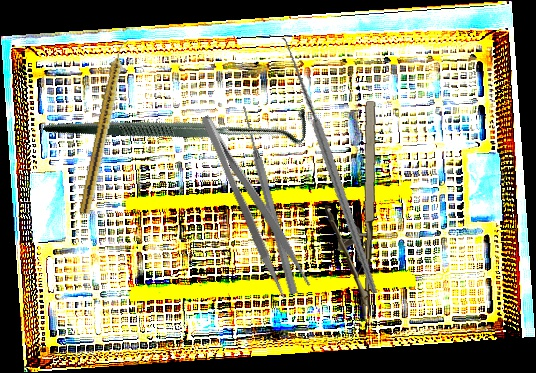Dressing Forceps: (195, 105, 313, 301)
Handpiece: (78, 37, 131, 216)
Hook Surgical: (42, 3, 317, 243), (224, 35, 424, 294)
Needle Holder: (319, 98, 382, 323)
Pusher: (238, 104, 300, 296)
